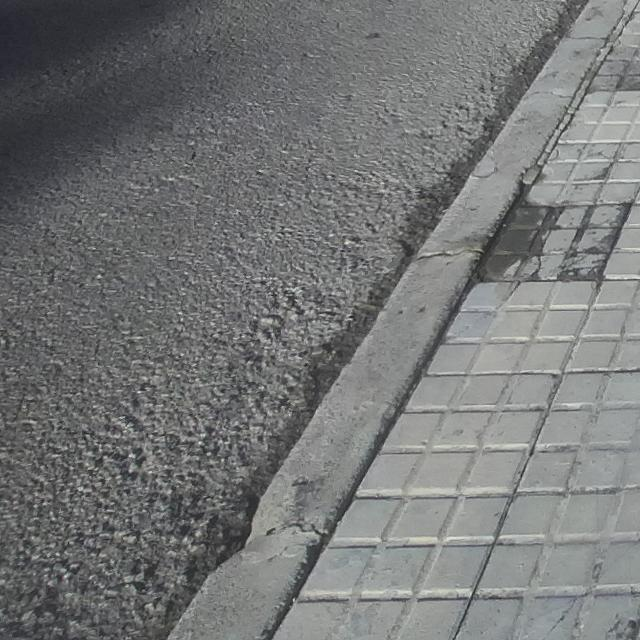calcada_quebrada: (439, 283, 525, 345), (516, 205, 572, 283)
